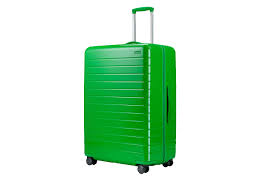suitcase: (80, 6, 179, 174)
